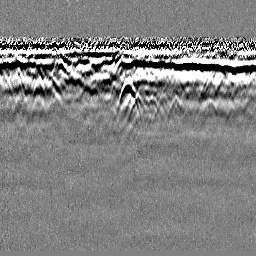cavity: (113, 75, 141, 121)
